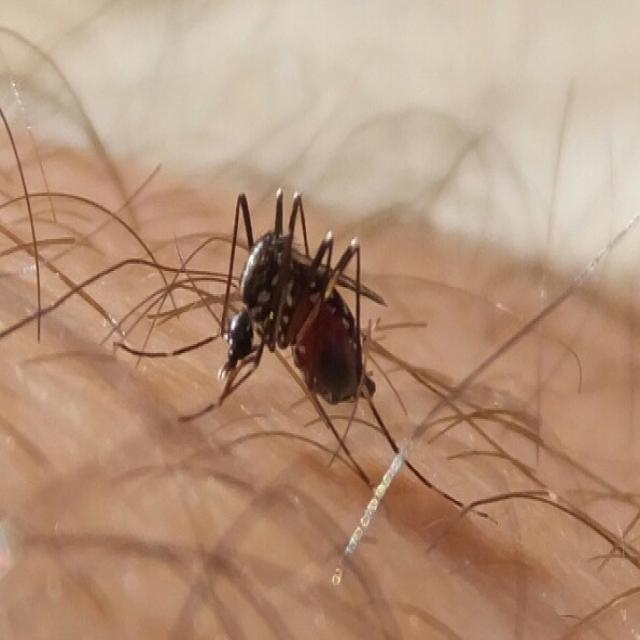albopictus: (61, 146, 602, 603)
